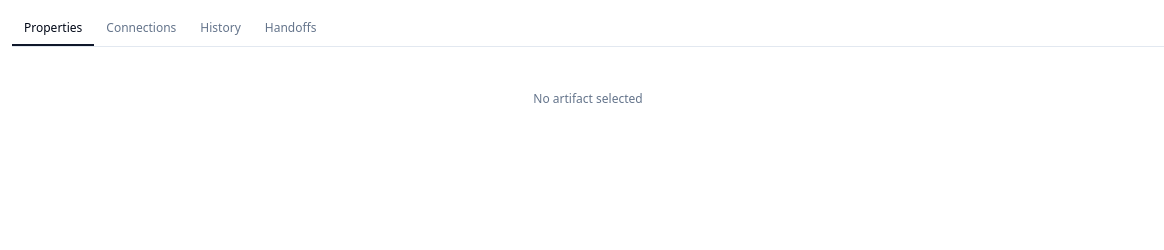
Test: ContextRail — ConnectionsPanel › renders incoming and outgoing edge sections
Click the tab "Connections" at x=141, y=29, box [94,12,188,46]
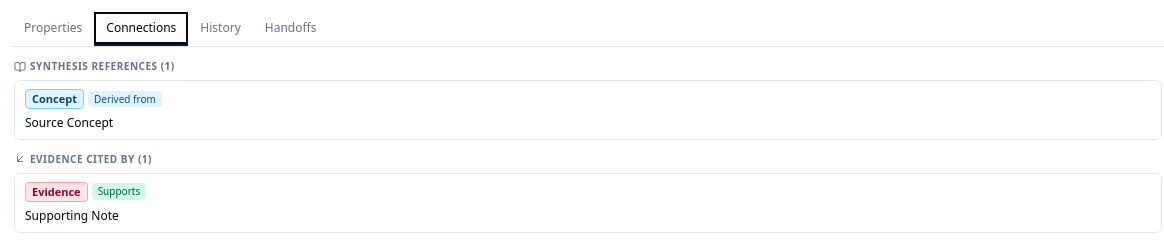
Now the link "Supporting Note" is shown, box [25,206,119,224]
Now the link "Source Concept" is shown, box [25,114,113,131]
